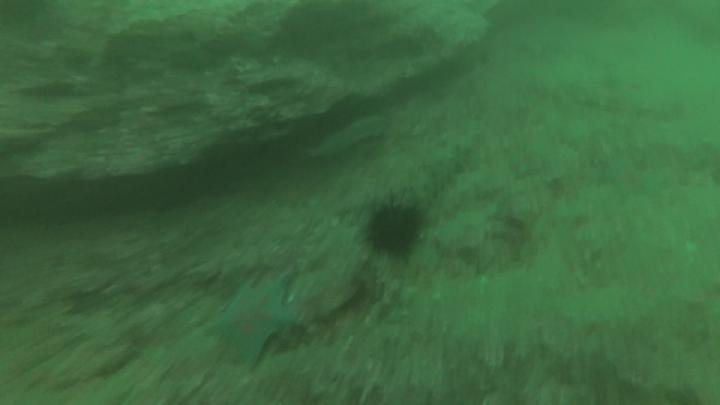echinus: (369, 204, 420, 257)
starfish: (205, 279, 296, 370)
